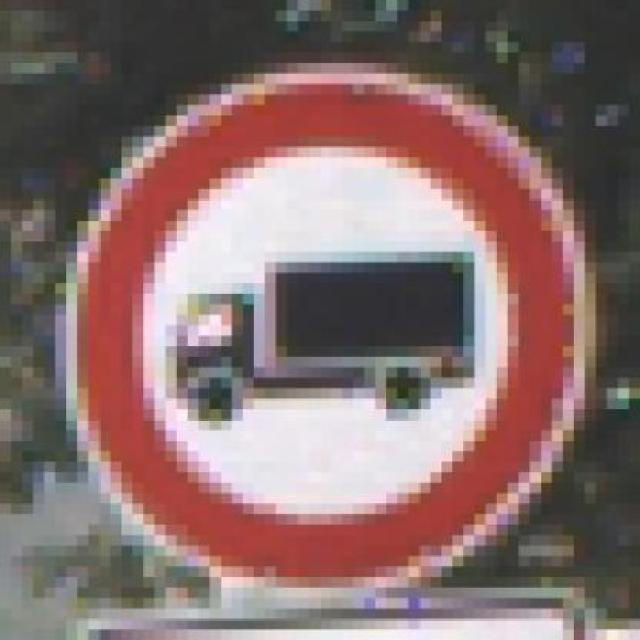Truck traffic is prohibited: (11, 32, 629, 630)
